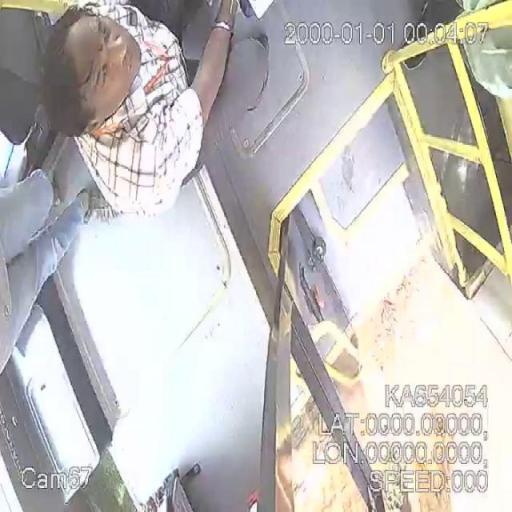persona: (5, 1, 243, 223), (2, 163, 92, 383)
